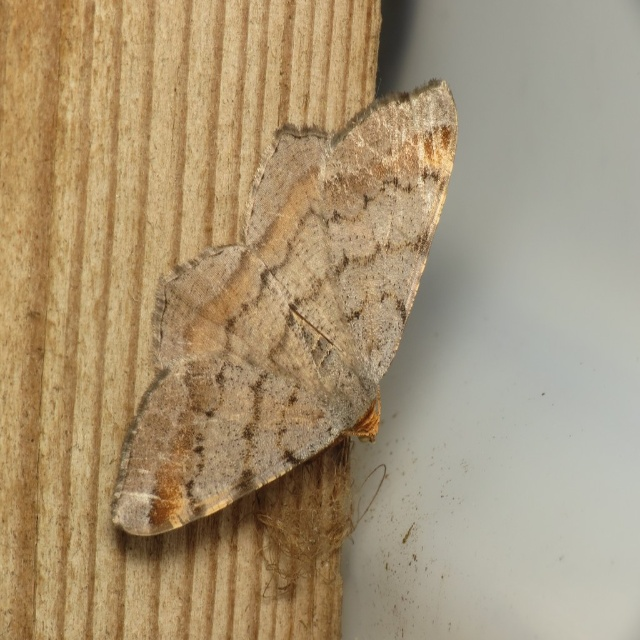Moths and butterflies: (107, 75, 459, 544)
